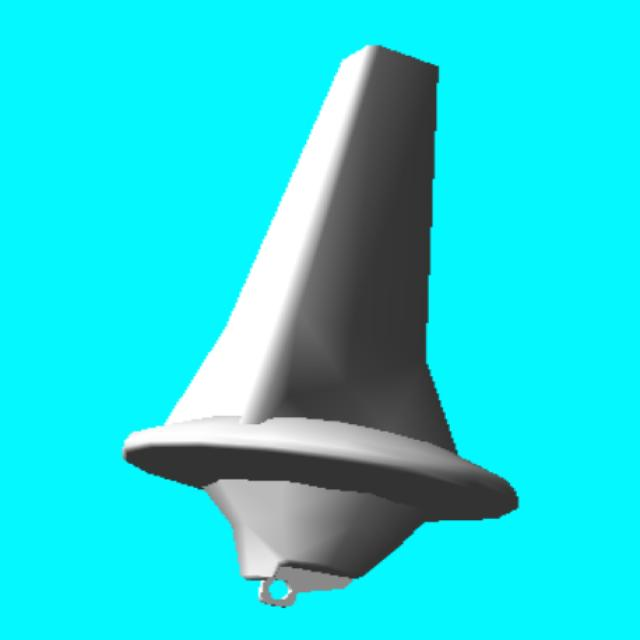WhiteBuoy: (124, 46, 517, 606)
